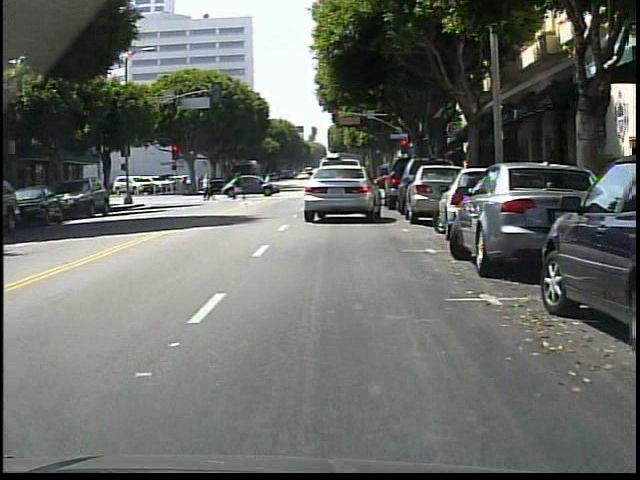person: (233, 172, 246, 201), (202, 174, 215, 200), (266, 173, 274, 191)
